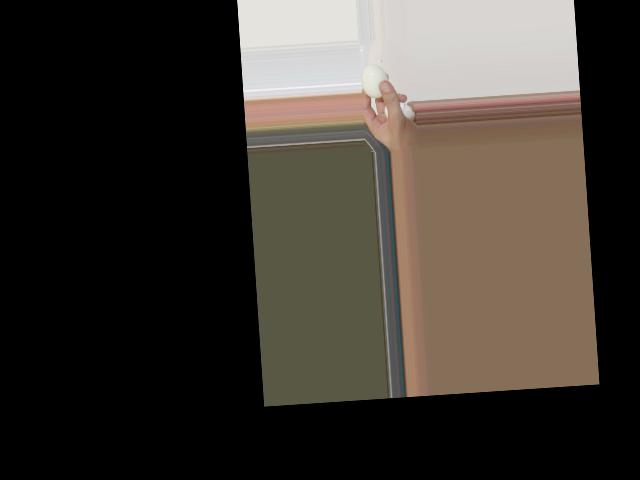egg: (360, 63, 390, 98)
